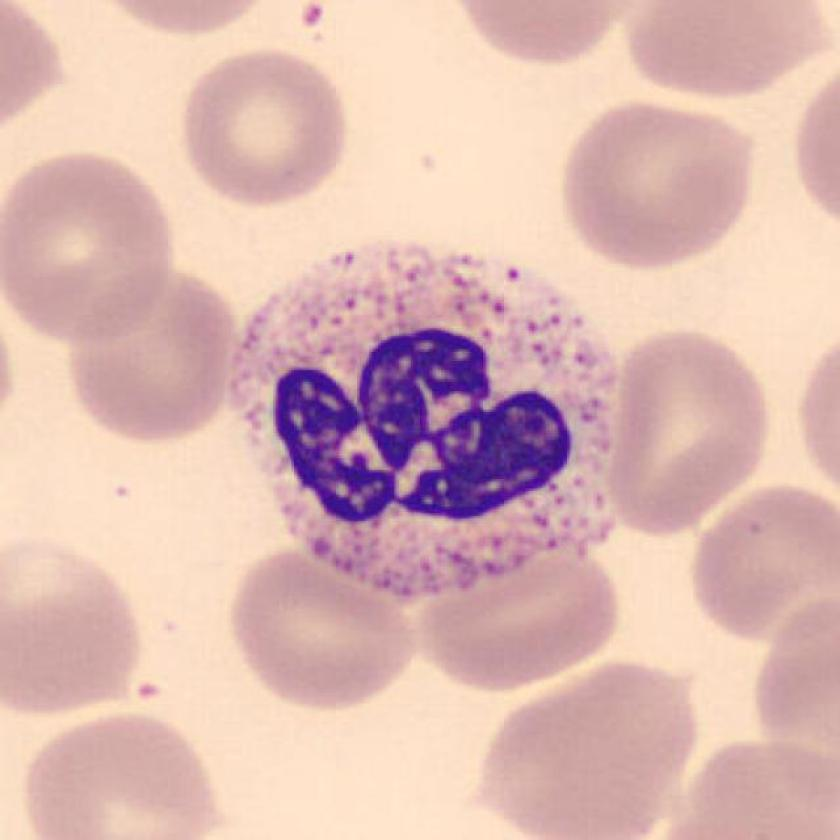neutrophil: (233, 241, 614, 600)
